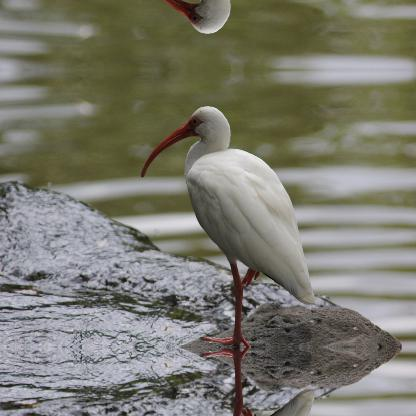Bird: (143, 105, 318, 333), (142, 359, 318, 415)
